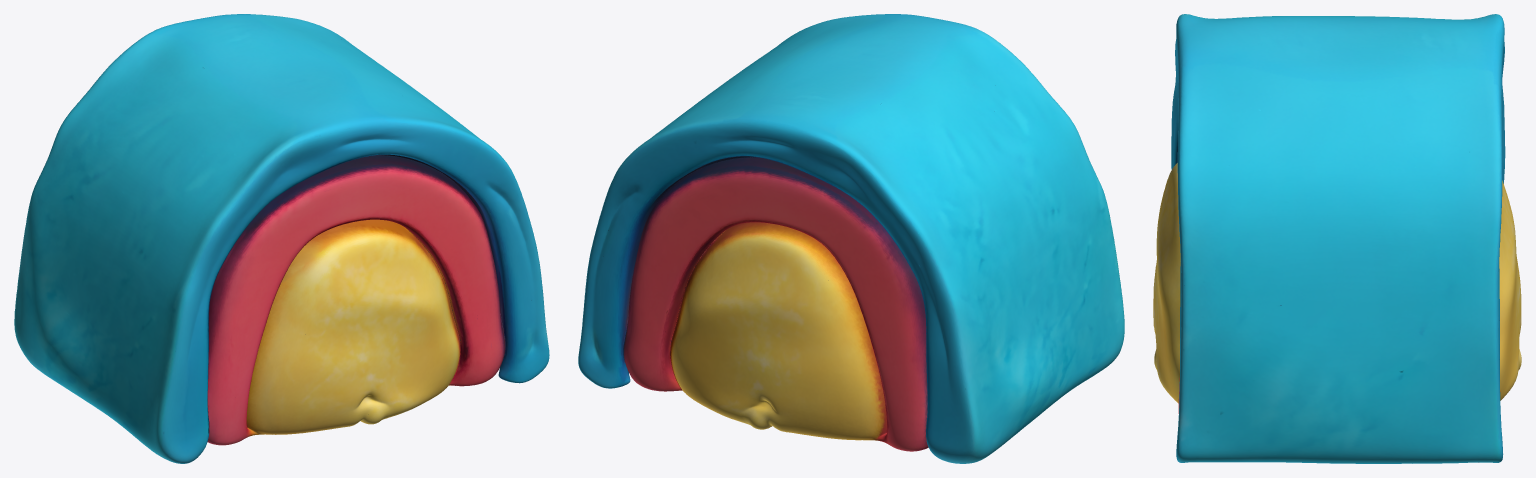
The model's file is clay.glb.
3 renders of one model, left to right at view 1: azimuth 30°, elevation 25°; view 2: azimuth 150°, elevation 25°; view 3: azimuth 270°, elevation 25°, orthographic. The views are drawn at different scales.
Visible parts, largest first — view 1: material.001; view 2: material.001; view 3: material.001.
Part boxes in pixels (x1,y1,x2,y2): material.001: (14,14,549,463); material.001: (578,14,1124,463); material.001: (1153,14,1521,463).
Size of the model in its own units: 0.9111 by 0.6547 by 0.6579.
Materials: 1 (1 with a texture image).
